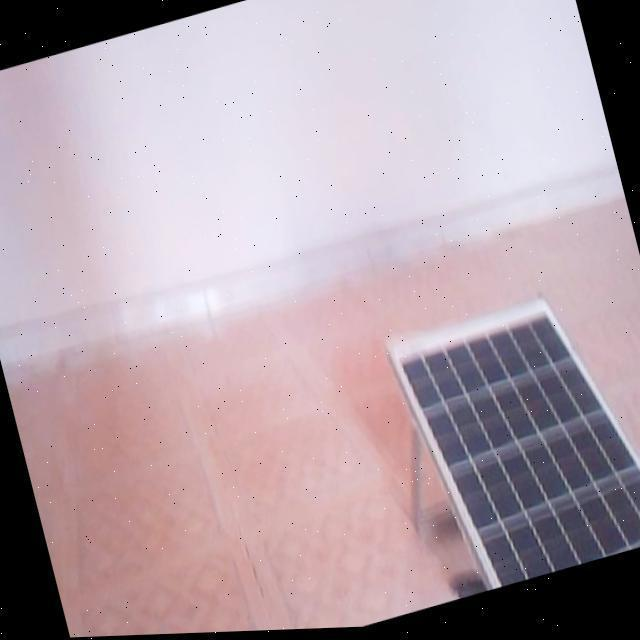Normal Solar Panel: (385, 276, 640, 606)
